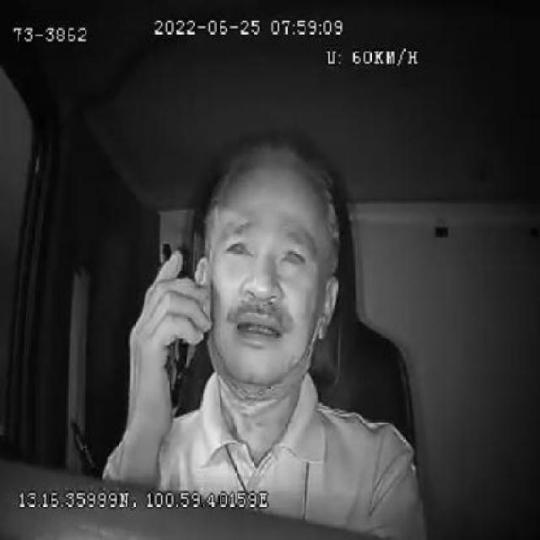phone: (157, 237, 191, 411)
